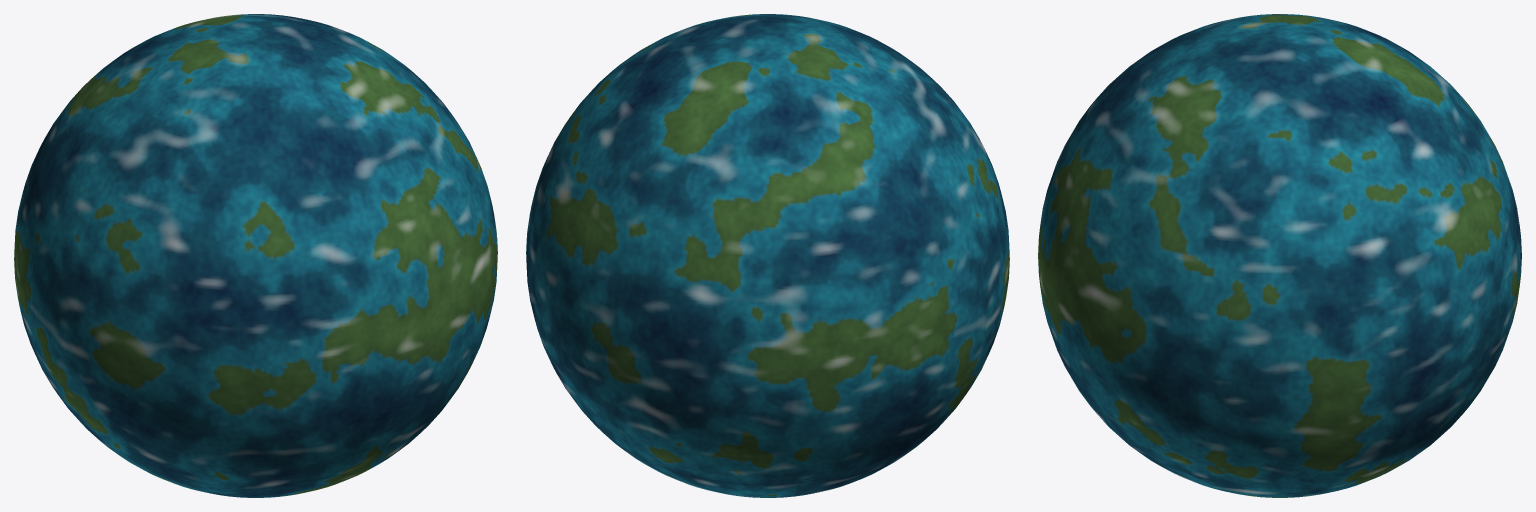
File: planeta-oceanico.glb
The picture shows the model from 3 angles, left to right: view 1: azimuth 30°, elevation 25°; view 2: azimuth 150°, elevation 25°; view 3: azimuth 270°, elevation 25°; orthographic projection.
Parts seen in each view (by area): view 1: Planeta · oceanico; view 2: Planeta · oceanico; view 3: Planeta · oceanico.
Part boxes in pixels (x1=…): Planeta · oceanico: x1=14, y1=14, x2=497, y2=497; Planeta · oceanico: x1=526, y1=14, x2=1009, y2=497; Planeta · oceanico: x1=1038, y1=14, x2=1521, y2=497.
Size of the model in its own units: 2 by 2 by 2.
Materials: 1 (1 with a texture image).
